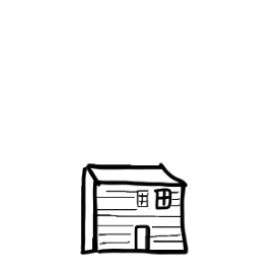bottom_placed_house: (2, 5, 260, 260)
closed_window: (152, 184, 175, 211), (133, 188, 151, 210)
door: (132, 222, 154, 256)
roof: (80, 158, 193, 198)
small_house: (6, 17, 260, 260)
wall: (91, 179, 190, 256)
